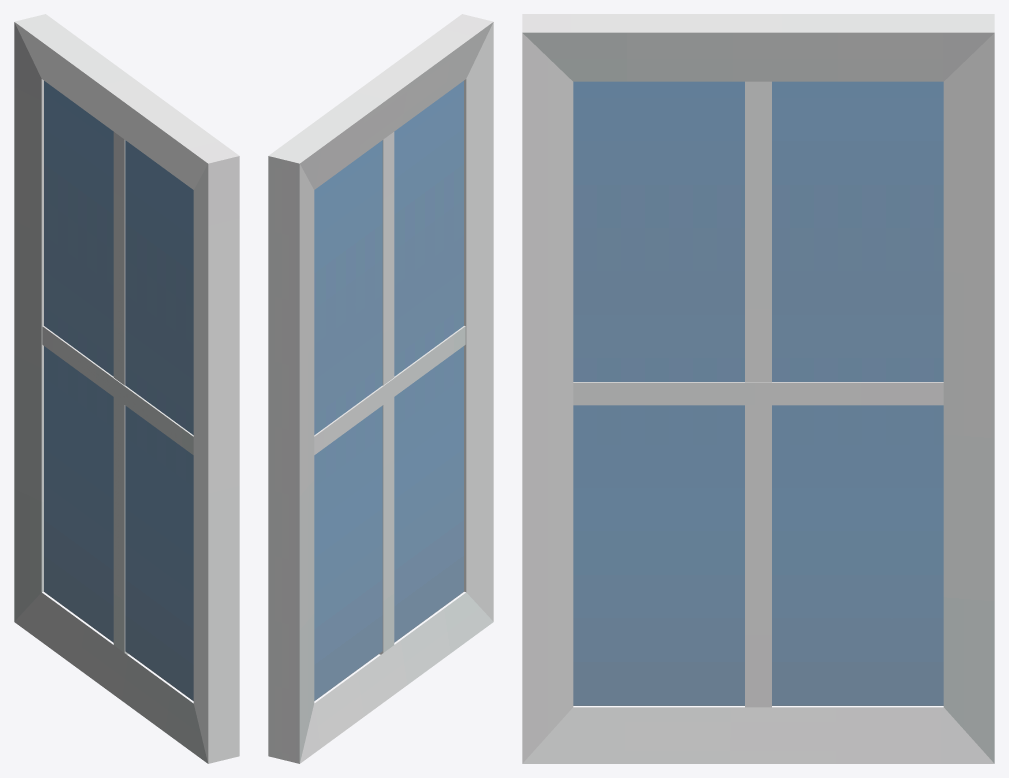
File: Square window by Poly by Google - 0BEn8hO2Nbn.glb
3 renders of one model, left to right at view 1: azimuth 30°, elevation 25°; view 2: azimuth 150°, elevation 25°; view 3: azimuth 270°, elevation 25°, orthographic. The views are drawn at different scales.
Parts seen in each view (by area): view 1: Cube.013_Cube.017; view 2: Cube.013_Cube.017; view 3: Cube.013_Cube.017.
Boxes of the visible parts, box(x1,y1,x2,y2) form: Cube.013_Cube.017: box(14, 14, 239, 763); Cube.013_Cube.017: box(268, 14, 493, 763); Cube.013_Cube.017: box(522, 14, 994, 763).
Bounding box in the file's own units: 0.1258 × 2.29 × 1.34.
Materials: 1 (1 with a texture image).
